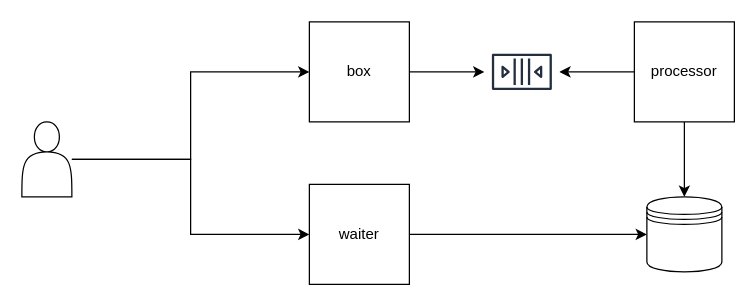
Some shapes in this 756 by 306 pixel diagram are drawn without their labels. Each missing label, with the centre of its shape:
"DB" belongs at (x=684, y=234).
"Queue" belongs at (x=521, y=71).
